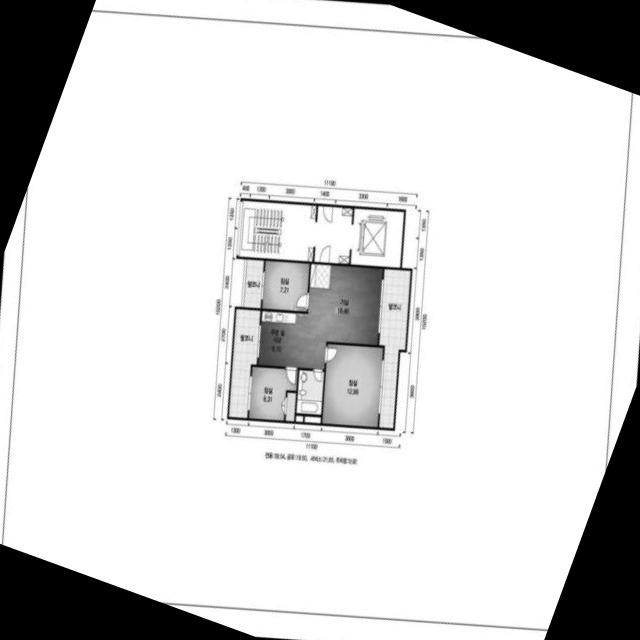background: (0, 0, 640, 640)
space_balconi: (379, 268, 410, 428), (228, 308, 260, 418), (243, 258, 264, 308)
space_bedroom: (322, 343, 383, 427), (248, 366, 297, 421), (262, 260, 309, 311)
space_elevator: (350, 208, 404, 267)
space_elevator_hall: (314, 205, 353, 264)
space_front: (309, 263, 331, 288)
space_kitchen: (258, 310, 308, 368)
space_living_room: (304, 264, 383, 369)
space_other: (304, 416, 321, 423), (295, 415, 303, 422)
space_staircase: (239, 200, 316, 261)
space_toilet: (296, 369, 324, 414)
